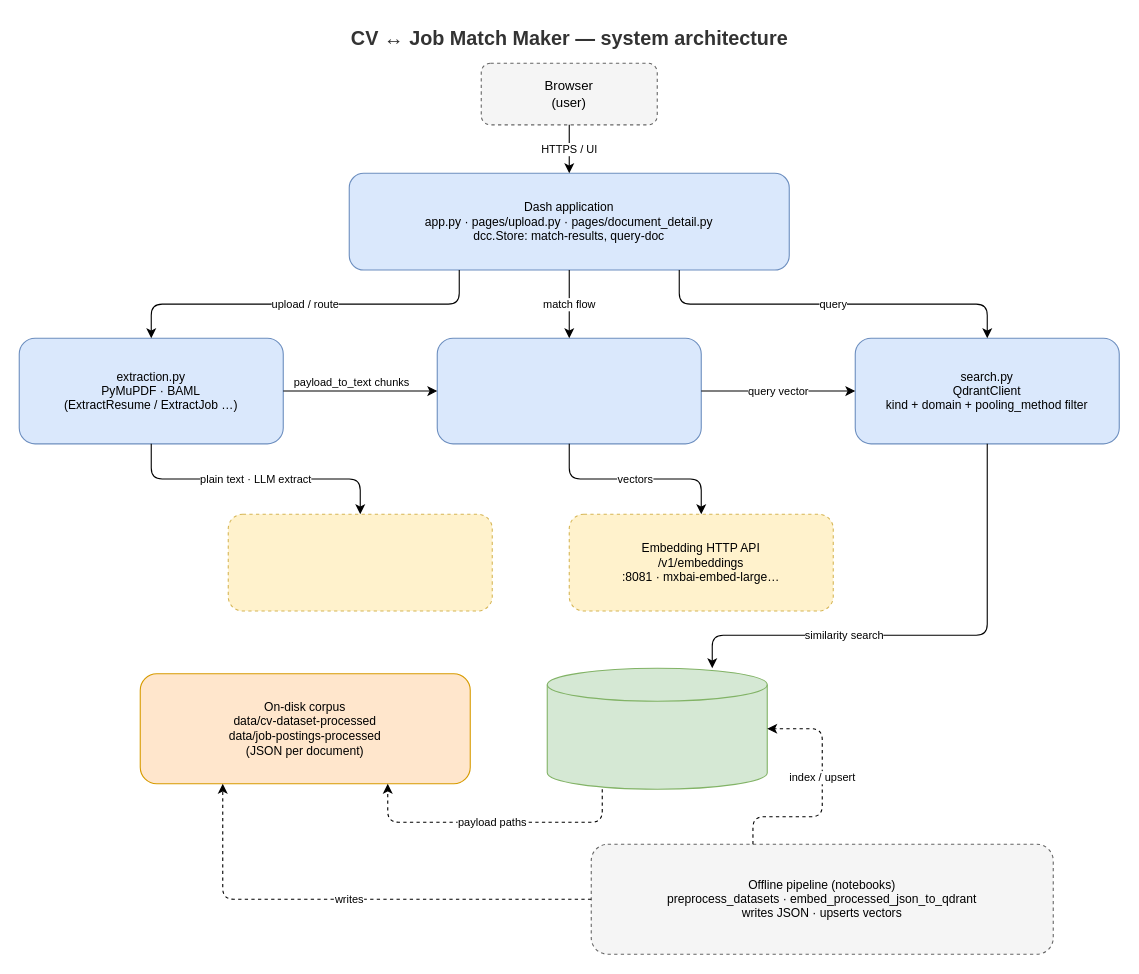
Image size: 1139x974. Some labels were removed from this diagram. The shapes that lost their labels are listed below. From the top down, each one's box as (x1, y1, x2, y2) in pixels, then its label:
(436, 337, 701, 444): embeddings.py chunk_text_by_tokens embed · pool (matches notebooks)
(227, 513, 492, 611): LLM inference (local) BAML via llama-cpp e.g. :8080 · phi-family
(546, 667, 767, 789): Qdrant collection: resume-job-posting-poolings (vectors + payload)
